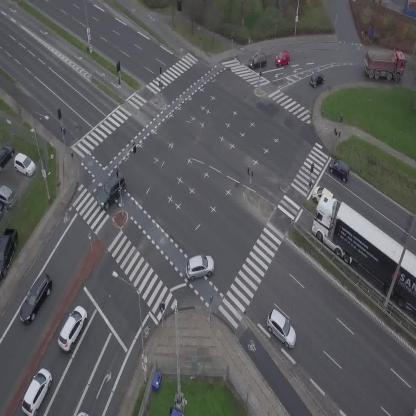car: (14, 271, 58, 326), (53, 304, 93, 354), (260, 307, 304, 351), (18, 366, 56, 416), (91, 171, 133, 211), (182, 251, 218, 282), (326, 155, 354, 182), (311, 185, 336, 205), (307, 70, 327, 89), (247, 52, 268, 69), (273, 49, 292, 67)
lorry: (366, 50, 406, 81), (77, 412, 90, 416)
